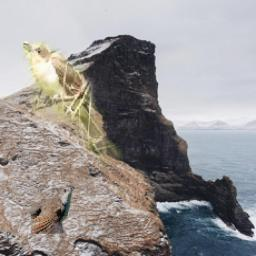Cuckoo: (23, 41, 124, 168), (32, 187, 76, 235)
